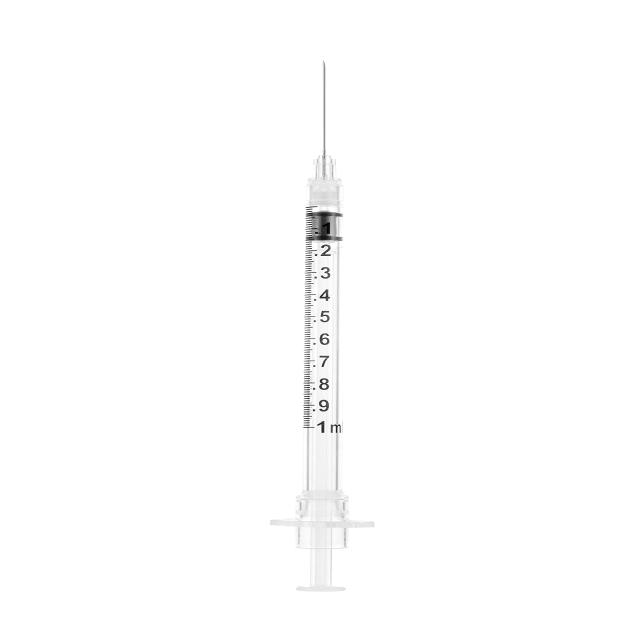syringe: (269, 59, 375, 592)
